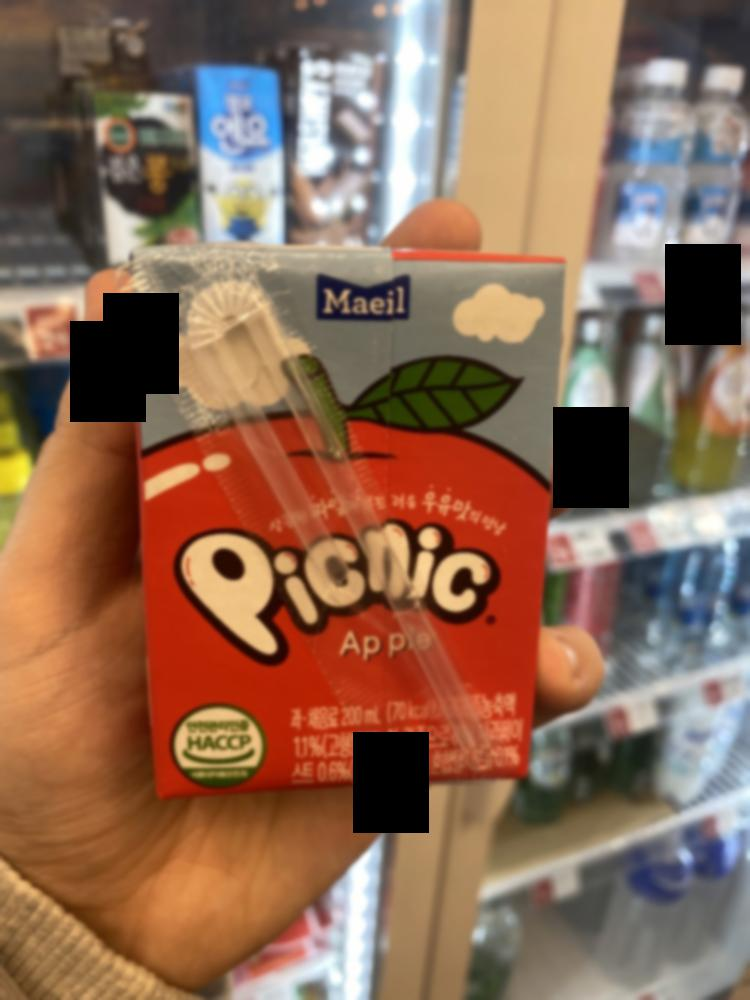picnic_apple: (118, 213, 541, 816)
